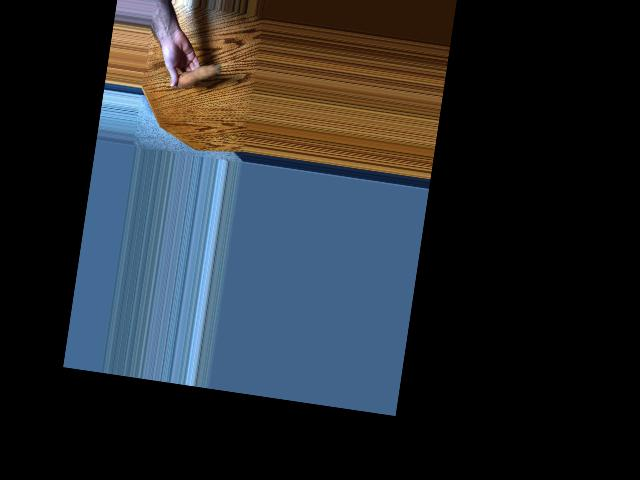sweet_potato: (167, 53, 223, 95)
